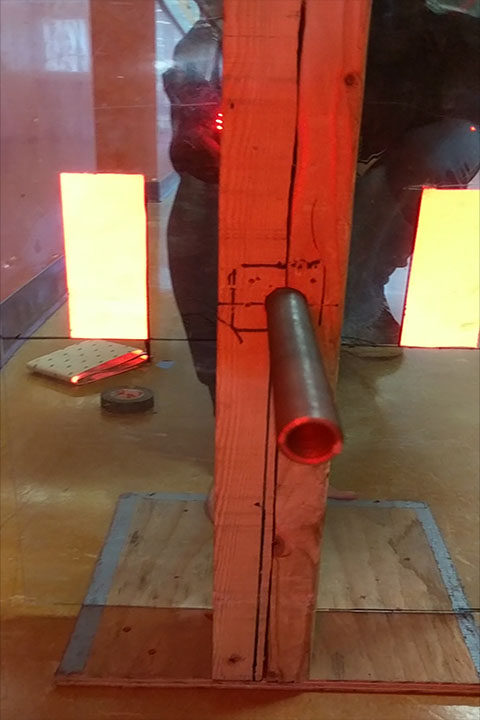gear: (58, 171, 149, 341), (398, 187, 480, 348)
